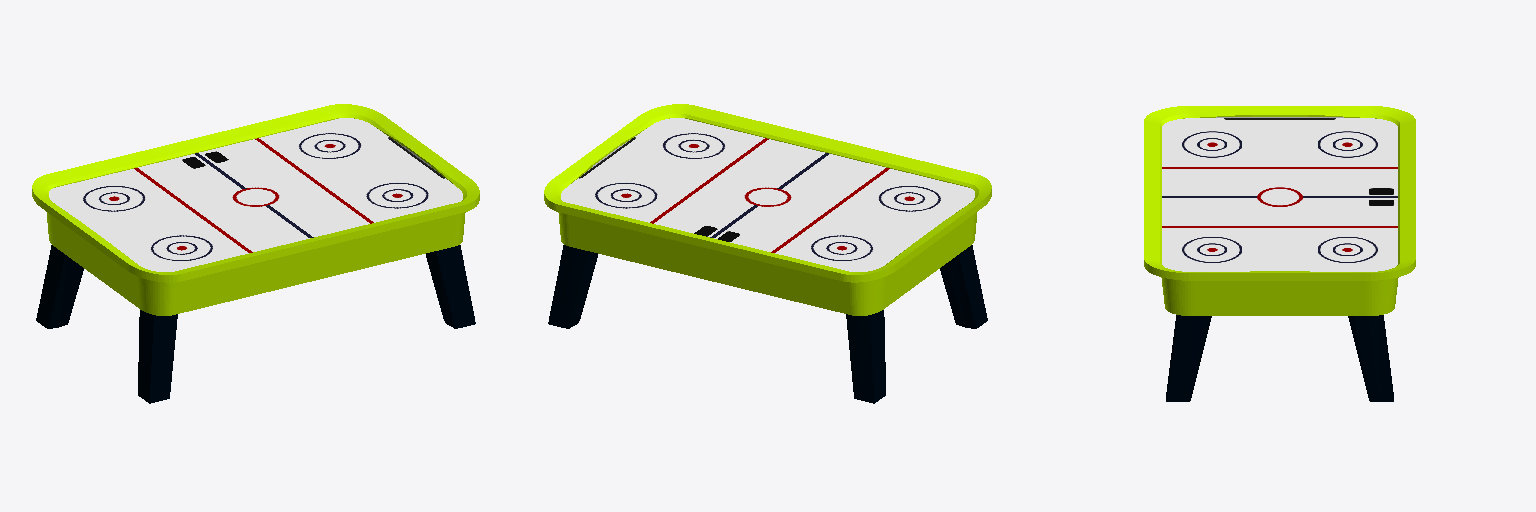
The picture shows the model from 3 angles: view 1: azimuth 30°, elevation 25°; view 2: azimuth 150°, elevation 25°; view 3: azimuth 270°, elevation 25°; orthographic projection.
Parts seen in each view (by area): view 1: GEO_airhockeytable_Plane; view 2: GEO_airhockeytable_Plane; view 3: GEO_airhockeytable_Plane.
Part boxes in pixels (x1,y1,x2,y2): GEO_airhockeytable_Plane: (32, 104, 479, 403); GEO_airhockeytable_Plane: (544, 104, 991, 403); GEO_airhockeytable_Plane: (1144, 106, 1415, 401).
Size of the model in its own units: 31.8 by 11.74 by 21.72.
Materials: 1 (1 with a texture image).